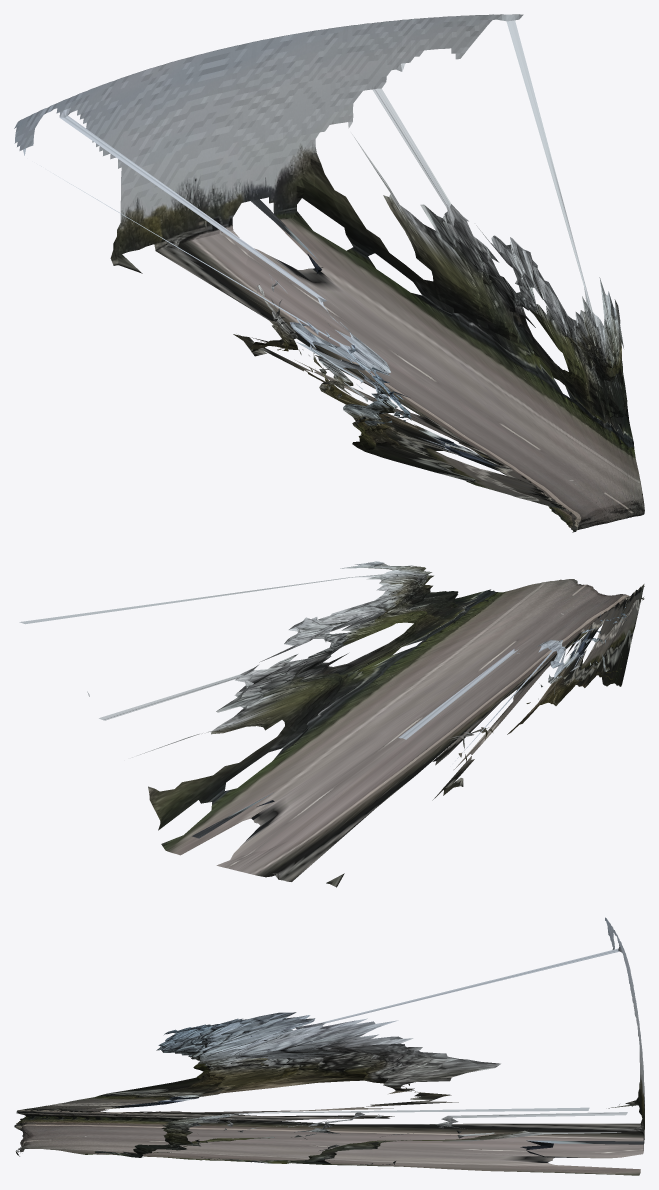
The picture shows the model from 3 angles, top to bottom: view 1: azimuth 30°, elevation 25°; view 2: azimuth 150°, elevation 25°; view 3: azimuth 270°, elevation 25°; orthographic projection. The views are drawn at different scales.
Parts seen in each view (by area): view 1: defaultobject; view 2: defaultobject; view 3: defaultobject.
Boxes of the visible parts, x1=… form: defaultobject: x1=14, y1=14, x2=644, y2=532; defaultobject: x1=19, y1=561, x2=644, y2=887; defaultobject: x1=14, y1=917, x2=644, y2=1175.
Size of the model in its own units: 31.92 by 12 by 44.67.
1 material, 1 textured.
